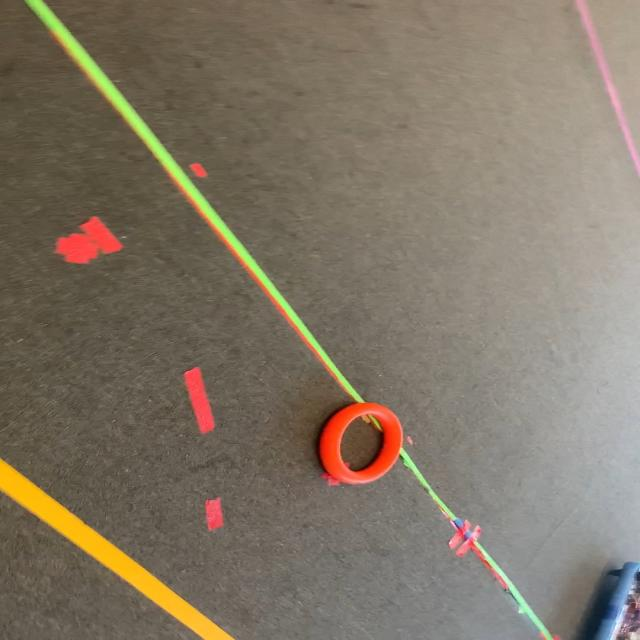notes: (322, 402, 405, 484)
